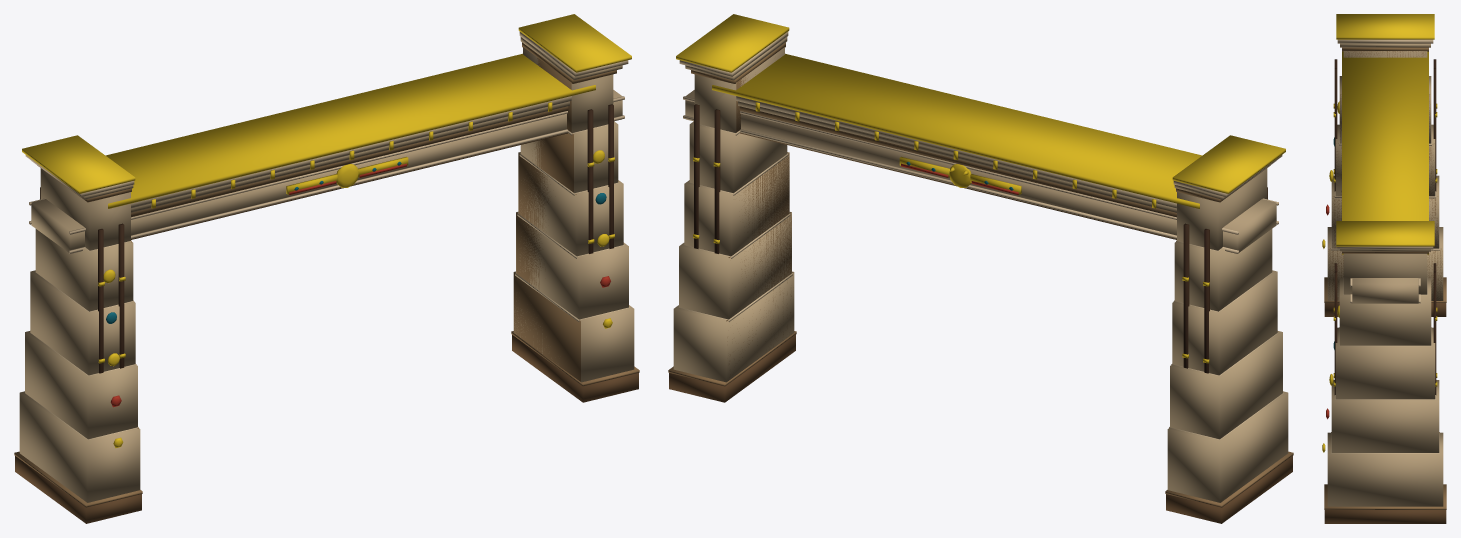
Rendered from temple_pylon_gate.glb.
3 renders of one model, left to right at view 1: azimuth 30°, elevation 25°; view 2: azimuth 150°, elevation 25°; view 3: azimuth 270°, elevation 25°, orthographic. The views are drawn at different scales.
Visible parts, largest first — view 1: temple_pylon_gate; view 2: temple_pylon_gate; view 3: temple_pylon_gate.
Part boxes in pixels (left/top/right/bottom): temple_pylon_gate: left=14, top=14, right=639, bottom=523; temple_pylon_gate: left=668, top=14, right=1293, bottom=523; temple_pylon_gate: left=1322, top=14, right=1446, bottom=523.
Size of the model in its own units: 37.8 by 21.35 by 8.6.
